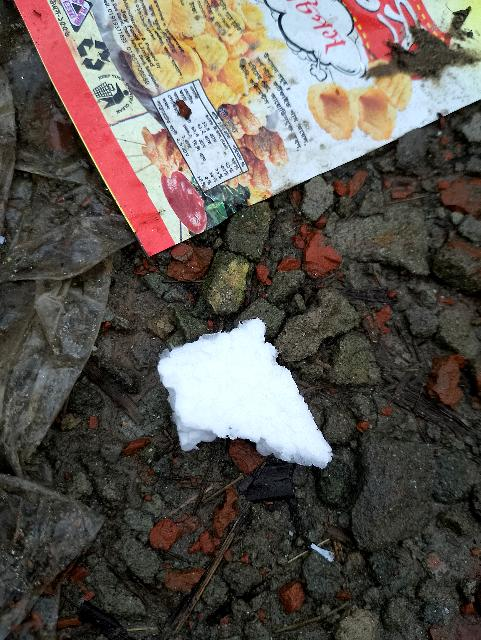cocksheet: (149, 309, 336, 522)
